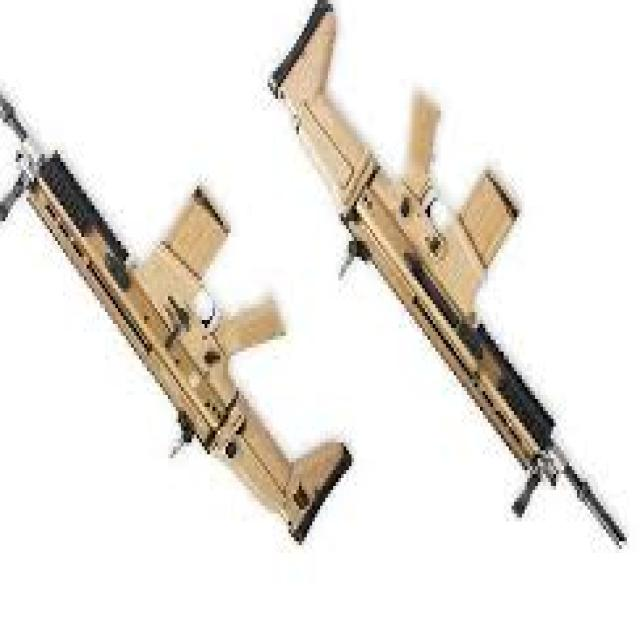Gun: (0, 0, 362, 592), (264, 0, 624, 553)
